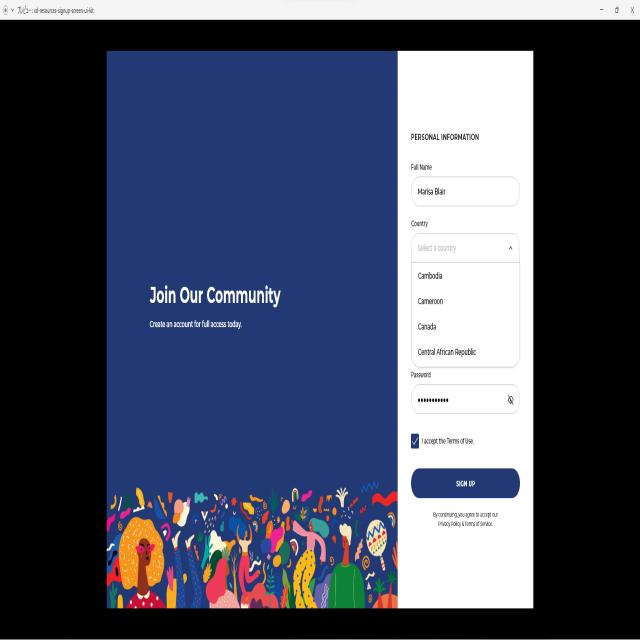checkbox: (410, 430, 420, 450)
